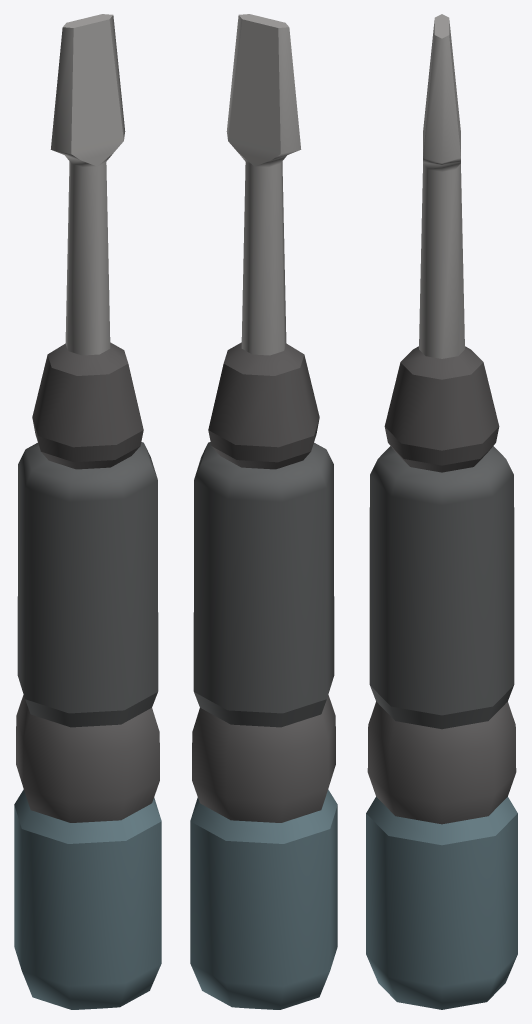
Rendered from Screwdriver_001.fbx.
3 views of the same model, side by side, from view 1: azimuth 30°, elevation 25°; view 2: azimuth 150°, elevation 25°; view 3: azimuth 270°, elevation 25° (orthographic).
Visible parts, largest first — view 1: Screwdriver_001; view 2: Screwdriver_001; view 3: Screwdriver_001.
Boxes of the visible parts, x1,y1,x2,y2 form: Screwdriver_001: [14, 14, 161, 1009]; Screwdriver_001: [190, 14, 337, 1009]; Screwdriver_001: [366, 14, 517, 1009].
Bounding box in the file's own units: 5.32 × 5.32 × 37.43.
